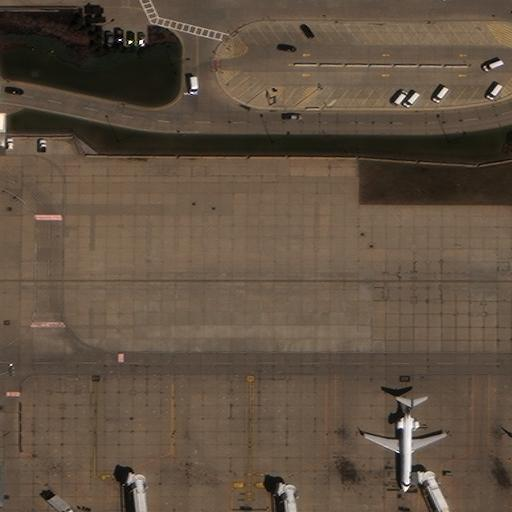Medium Civil Transport: (365, 397, 446, 492)
